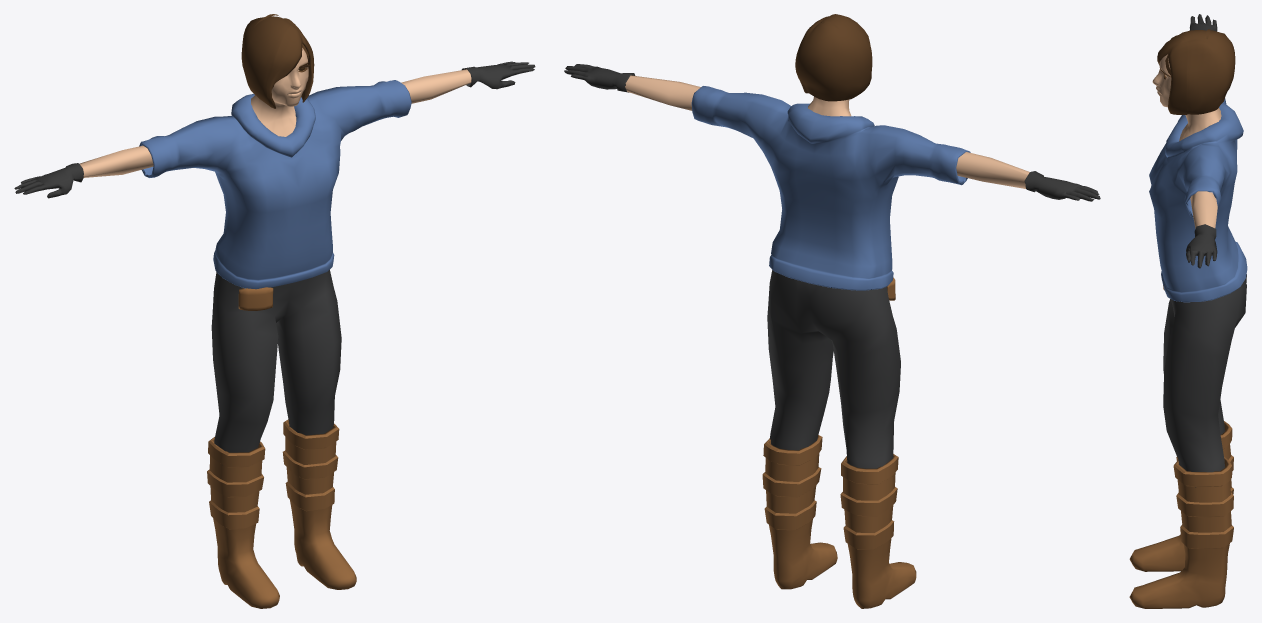
File: maia_clothed_test2.fbx
3 renders of one model, left to right at view 1: azimuth 30°, elevation 25°; view 2: azimuth 150°, elevation 25°; view 3: azimuth 270°, elevation 25°, orthographic. The views are drawn at different scales.
Visible parts, largest first — view 1: maia_female1605Mesh_top1, pants, boot_base2, polySurface7, maia_bob02Mesh, glove2, glove, pCube1; view 2: maia_female1605Mesh_top1, pants, boot_base2, maia_bob02Mesh, polySurface7, glove2, glove; view 3: maia_female1605Mesh_top1, pants, boot_base2, maia_bob02Mesh, polySurface7, glove, glove2.
Part boxes in pixels (<box>): maia_female1605Mesh_top1: <box>139,80,411,289</box>; pants: <box>211,270,341,465</box>; boot_base2: <box>207,419,356,608</box>; polySurface7: <box>79,48,471,177</box>; maia_bob02Mesh: <box>241,14,314,108</box>; glove2: <box>14,163,83,198</box>; glove: <box>461,61,535,89</box>; pCube1: <box>238,287,273,310</box>; maia_female1605Mesh_top1: <box>691,86,970,290</box>; pants: <box>767,270,900,468</box>; boot_base2: <box>762,435,916,608</box>; maia_bob02Mesh: <box>795,14,872,101</box>; polySurface7: <box>625,75,1029,188</box>; glove2: <box>1024,171,1100,201</box>; glove: <box>564,64,635,92</box>; maia_female1605Mesh_top1: <box>1149,98,1247,302</box>; pants: <box>1163,274,1246,487</box>; boot_base2: <box>1129,421,1233,608</box>; maia_bob02Mesh: <box>1157,29,1235,114</box>; polySurface7: <box>1152,54,1221,228</box>; glove: <box>1186,224,1217,268</box>; glove2: <box>1189,14,1217,31</box>.
Bounding box in the file's own units: 16.46 × 16.83 × 3.26.
